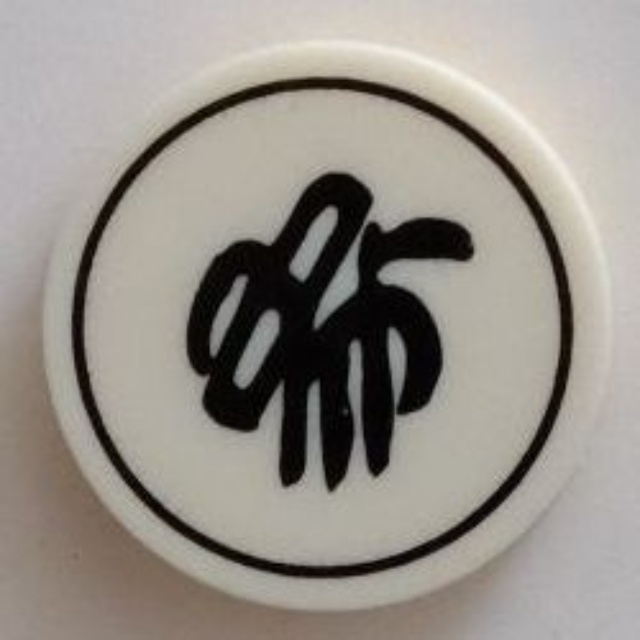black_bo: (41, 33, 629, 619)
